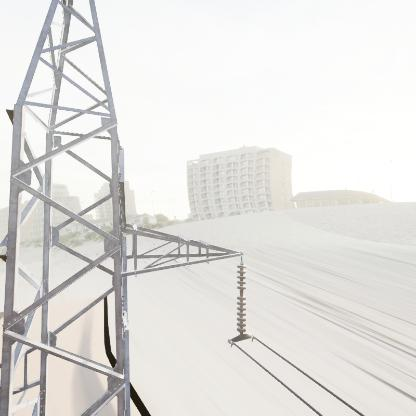insulator: (232, 260, 249, 341)
